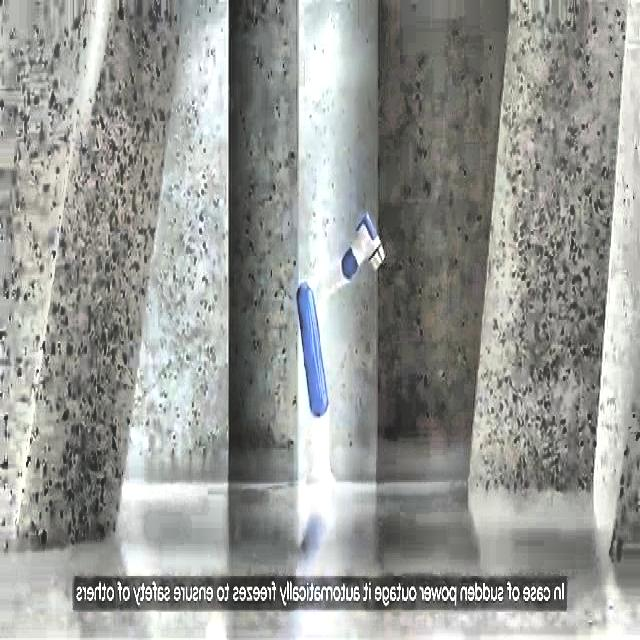robot: (290, 210, 387, 489)
